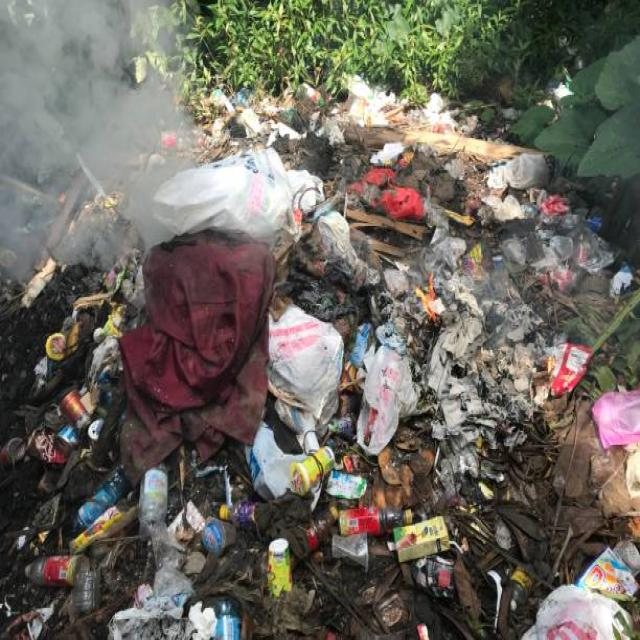metal: (58, 400, 95, 446)
plastic: (302, 464, 387, 555), (27, 554, 96, 610)
trash: (144, 255, 260, 424)
